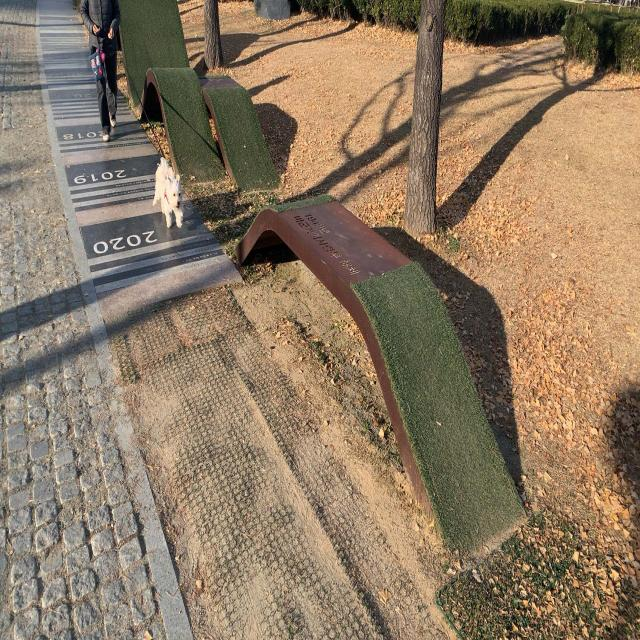Leashed_Dog: (106, 34, 186, 232)
